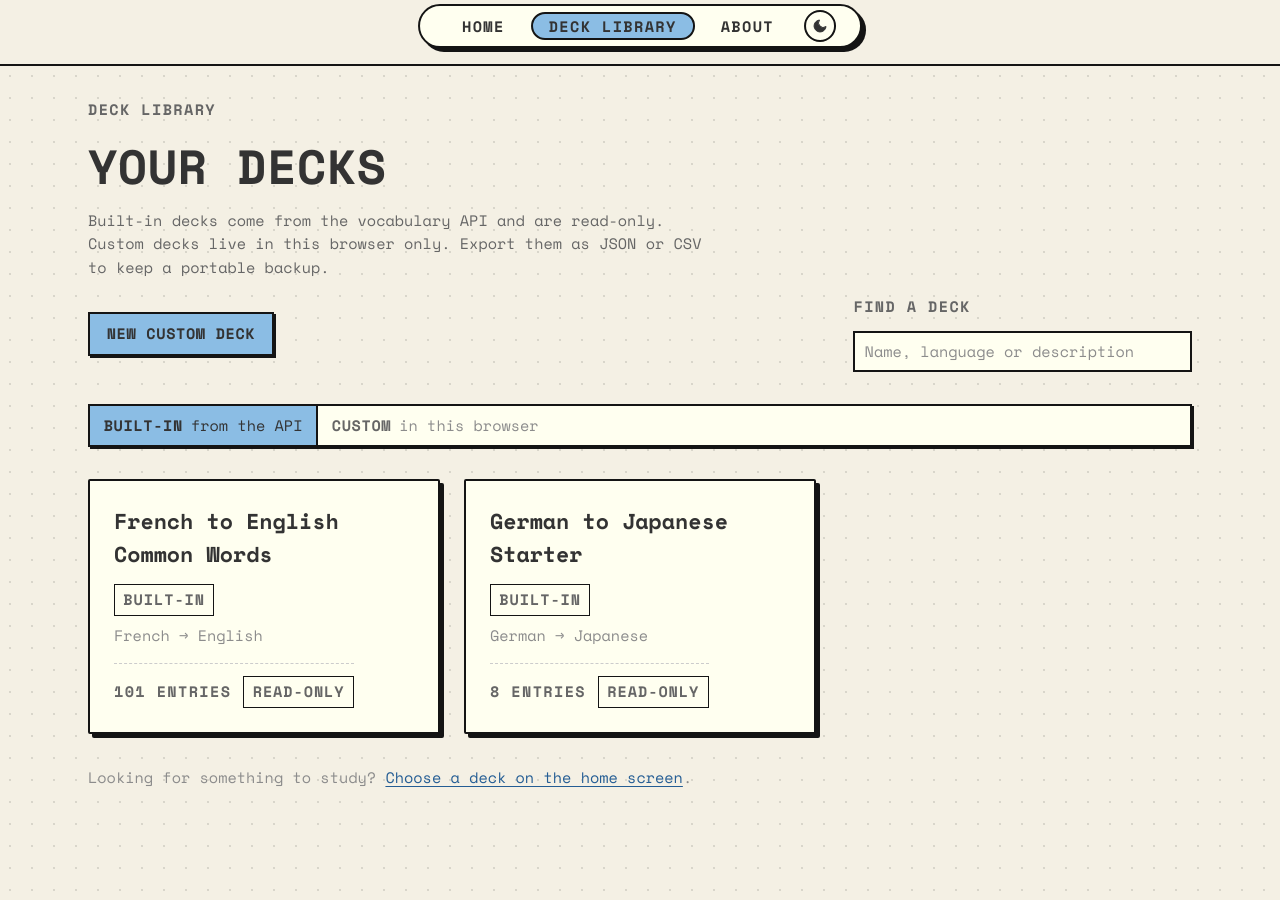
Test: home link navigates back from the library
Click the link "Home" at (483, 26), box left=462, top=15, right=505, bottom=37
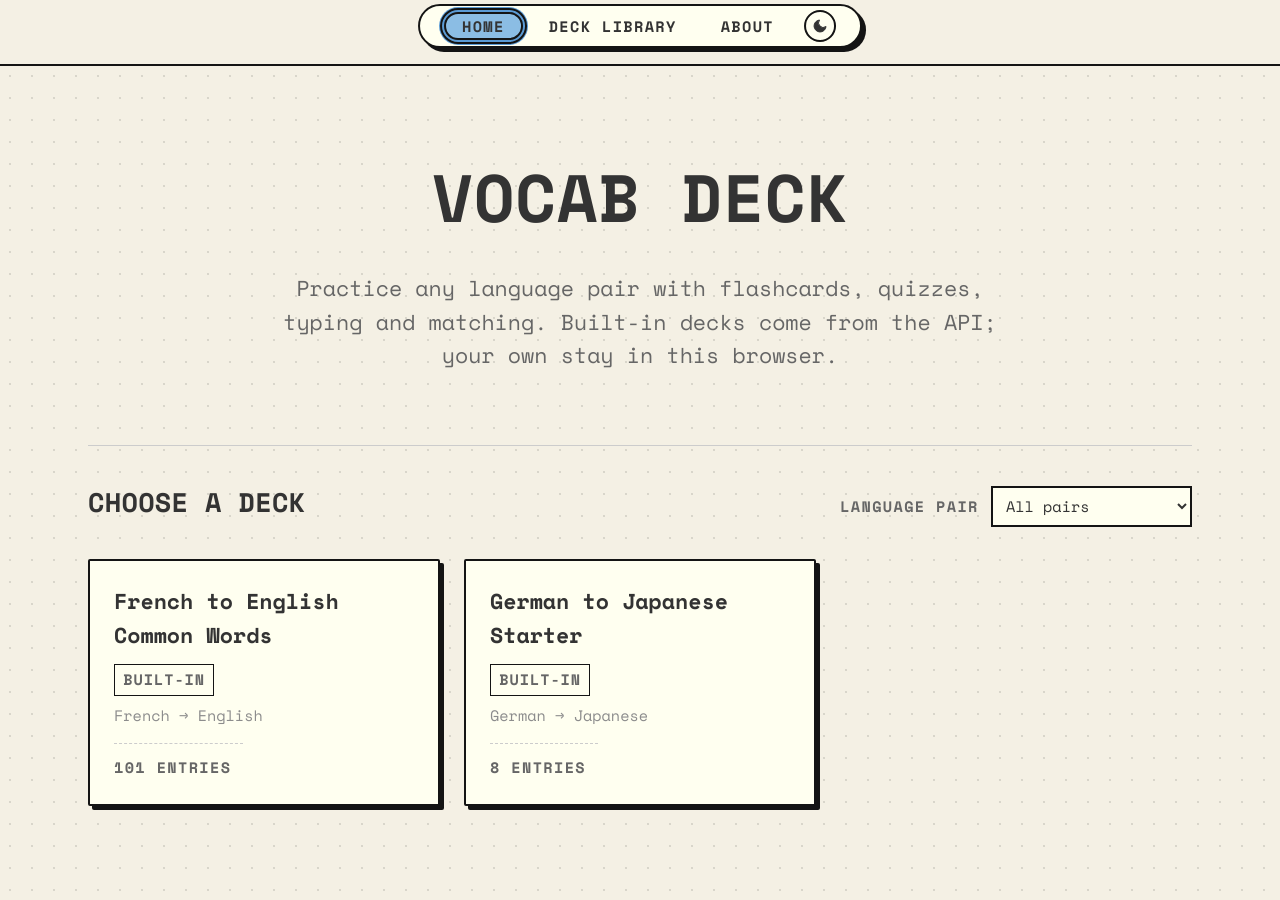
Expected: the heading "Vocab Deck" is shown, left=432, top=162, right=848, bottom=232
